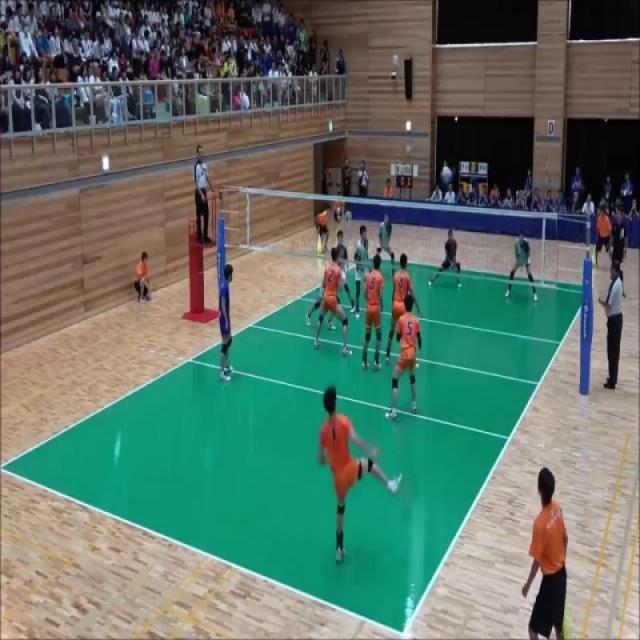volleyball: (440, 166, 453, 184)
